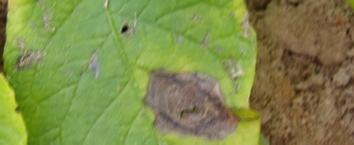Tomato Early blight leaf: (14, 0, 270, 145)
